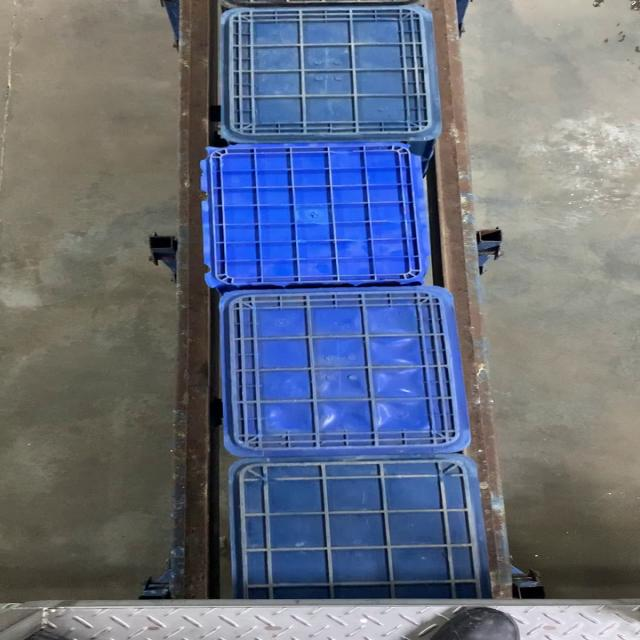Box: (213, 288, 471, 458), (220, 5, 442, 143)
Damaged_box: (199, 144, 429, 288)
